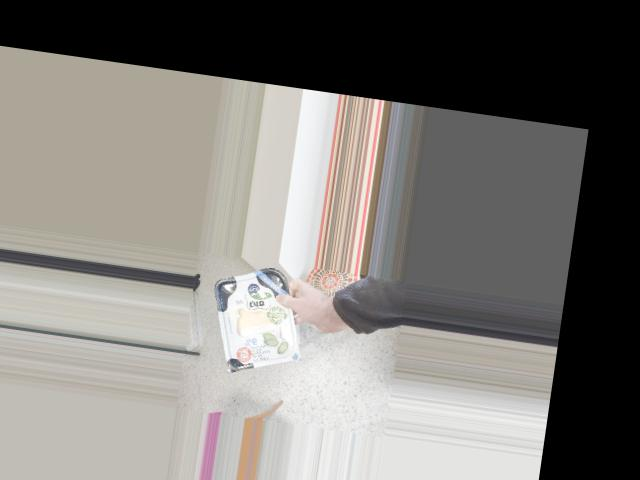cheese: (217, 271, 296, 367)
